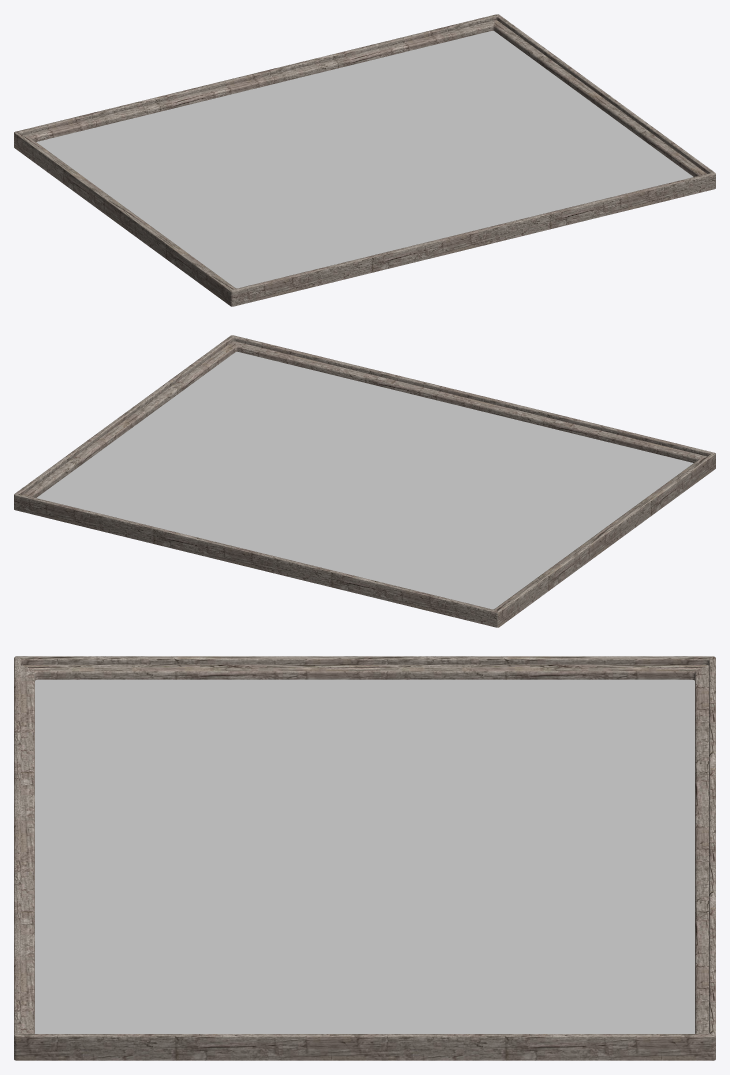
Rendered from BrainsPainting.FBX.
The picture shows the model from 3 angles, top to bottom: view 1: azimuth 30°, elevation 25°; view 2: azimuth 150°, elevation 25°; view 3: azimuth 270°, elevation 25°; orthographic projection. The views are drawn at different scales.
Parts seen in each view (by area): view 1: BrainsPainting; view 2: BrainsPainting; view 3: BrainsPainting.
Part boxes in pixels (x1=…): BrainsPainting: x1=14, y1=14, x2=715, y2=306; BrainsPainting: x1=14, y1=335, x2=715, y2=627; BrainsPainting: x1=14, y1=656, x2=715, y2=1060.
Bounding box in the file's own units: 2684 × 80.71 × 2094.
